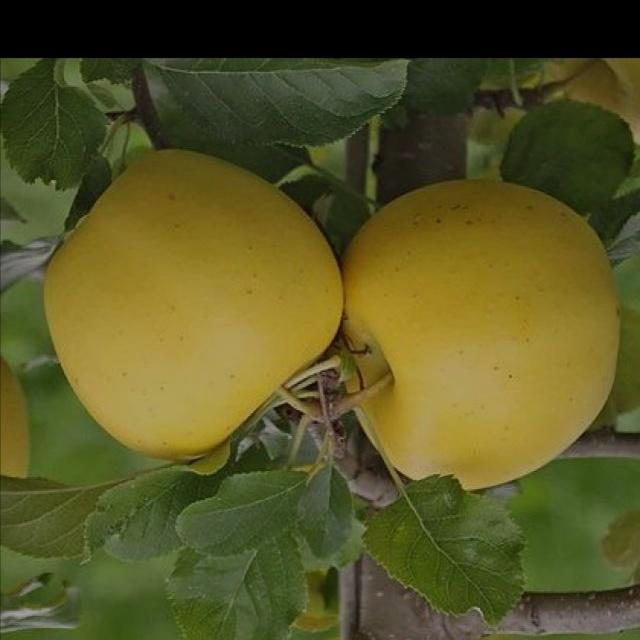green apple: (338, 160, 623, 490), (41, 151, 336, 468)
